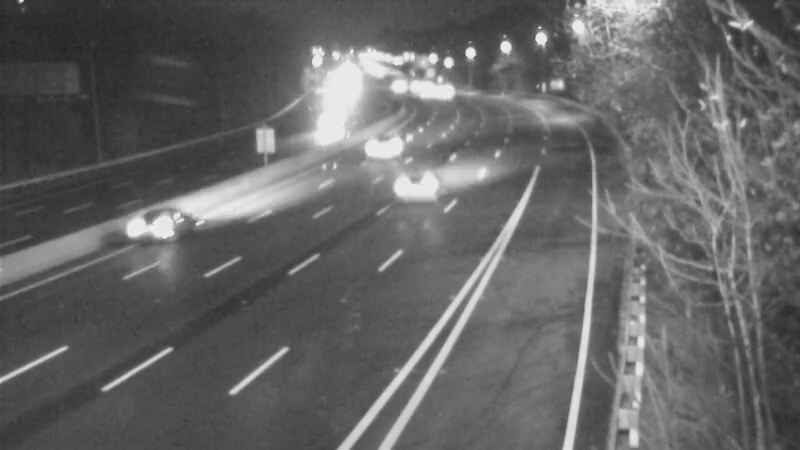vehicle: (392, 144, 472, 224), (118, 185, 198, 265), (357, 111, 407, 161), (308, 104, 358, 154)
